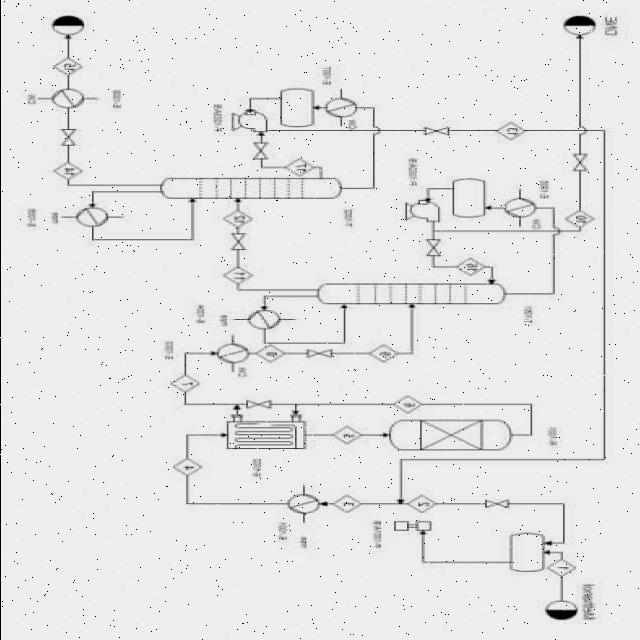Centrifugal Pump: (398, 196, 442, 223), (222, 108, 266, 130)
Gate Valve: (51, 125, 85, 152), (563, 150, 597, 174), (479, 494, 519, 512), (418, 238, 448, 260), (226, 233, 252, 253), (302, 346, 335, 359), (422, 126, 456, 138), (245, 399, 276, 411), (248, 144, 273, 158)
